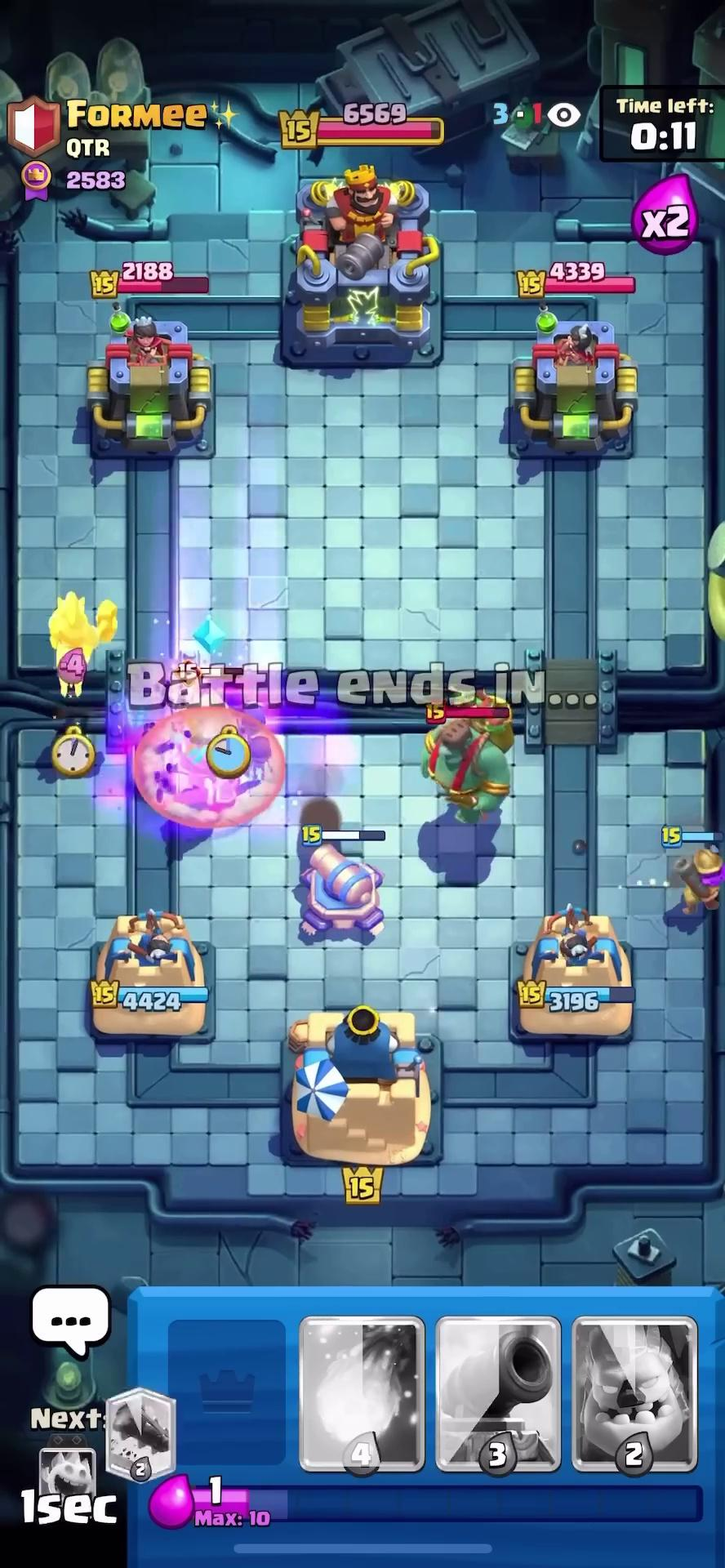cannon: (290, 815, 398, 939), (663, 825, 725, 919)
evo_skeletons: (233, 698, 282, 778)
hog_rider: (33, 594, 122, 704)
